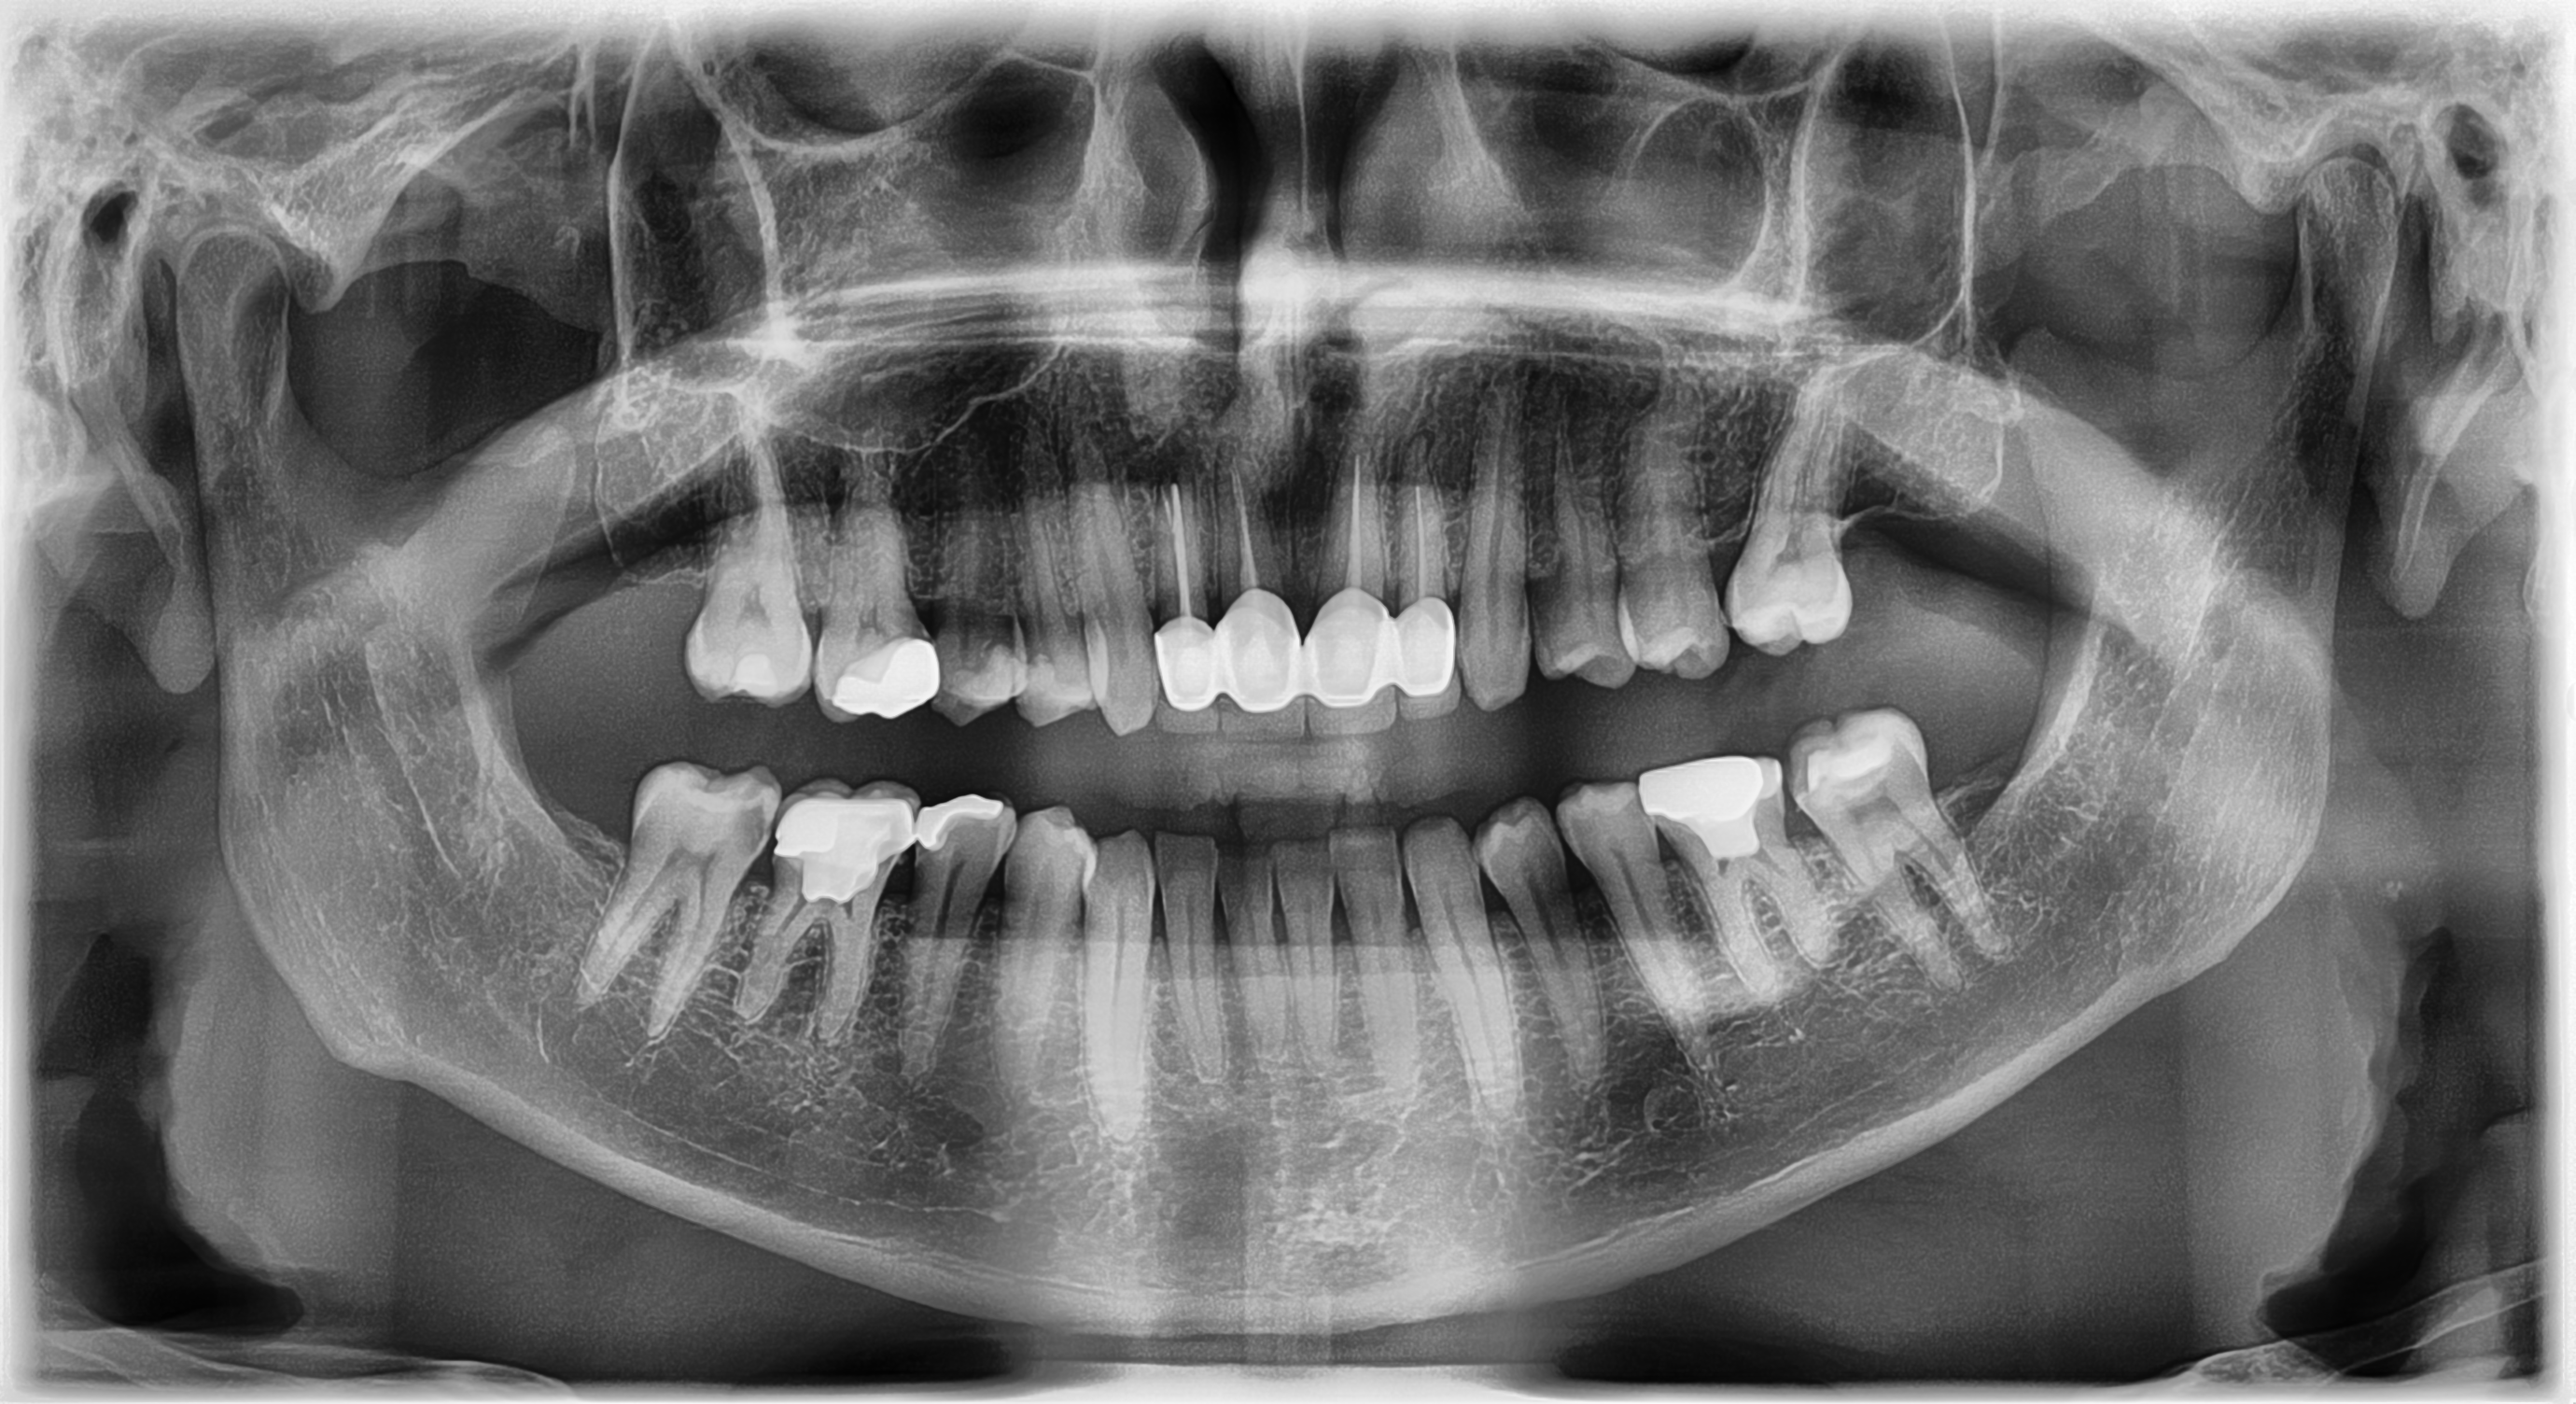apinamiento: (1135, 811, 1425, 927)
tratamiento_conducto: (1204, 448, 1308, 735), (1296, 436, 1394, 737), (1133, 469, 1215, 731), (1396, 462, 1450, 737)
